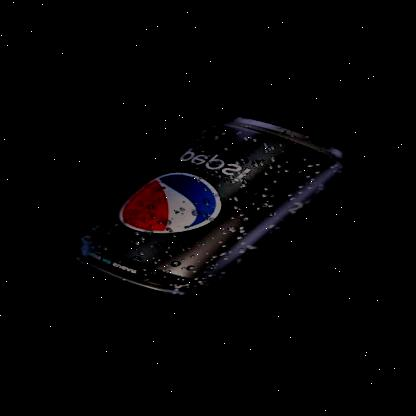Can: (62, 98, 358, 310)
